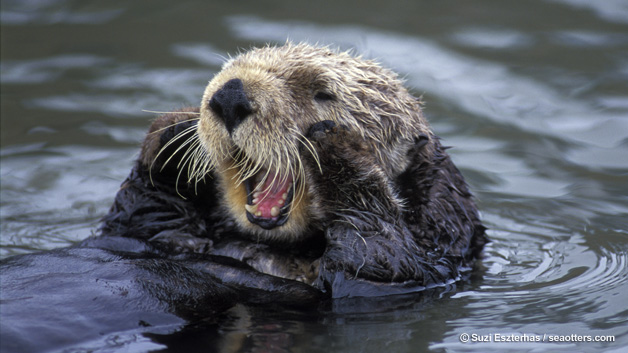otter: (53, 25, 498, 332)
